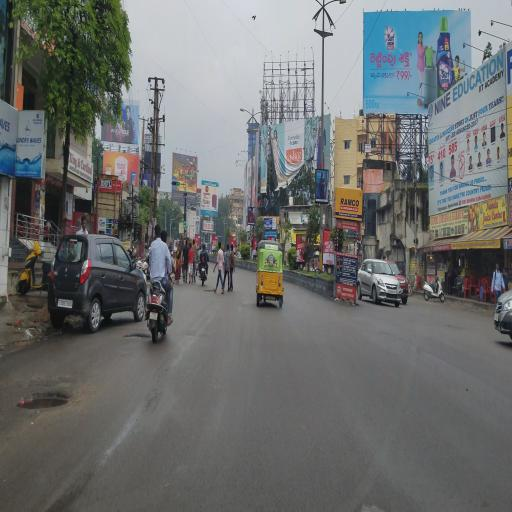street_light_0: (236, 104, 253, 128)
